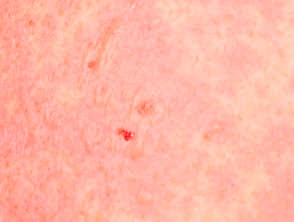SJS-TEN: (99, 76, 179, 167)
